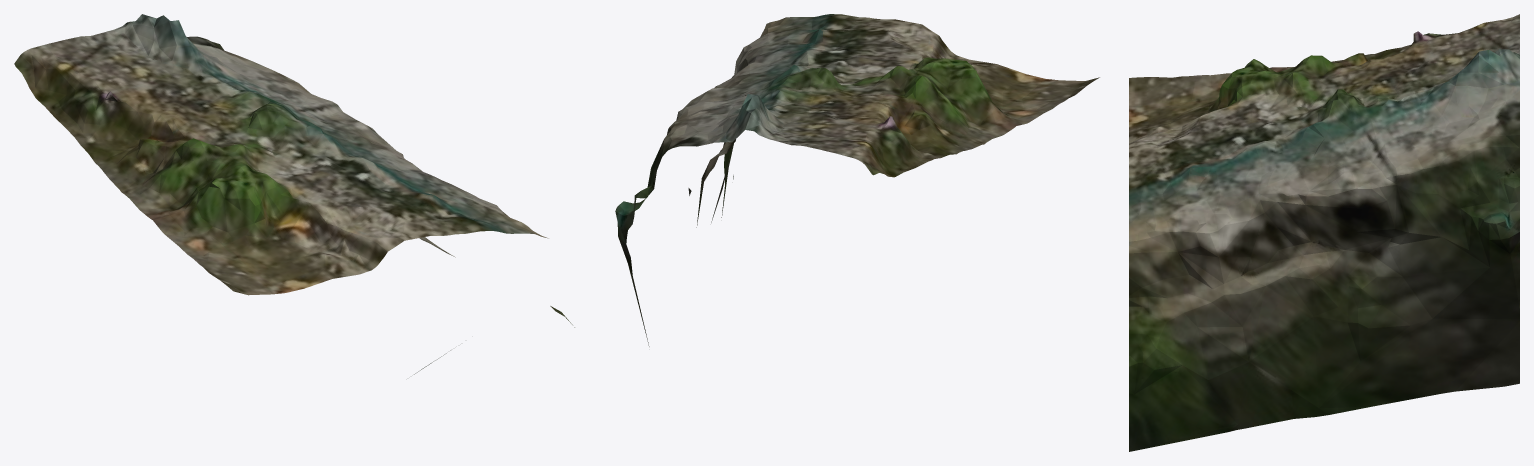
3 views of the same model, side by side, from view 1: azimuth 30°, elevation 25°; view 2: azimuth 150°, elevation 25°; view 3: azimuth 270°, elevation 25° (orthographic). The views are drawn at different scales.
Size of the model in its own units: 0.7797 by 0.7228 by 0.8374.
Materials: 3 (3 with a texture image).
